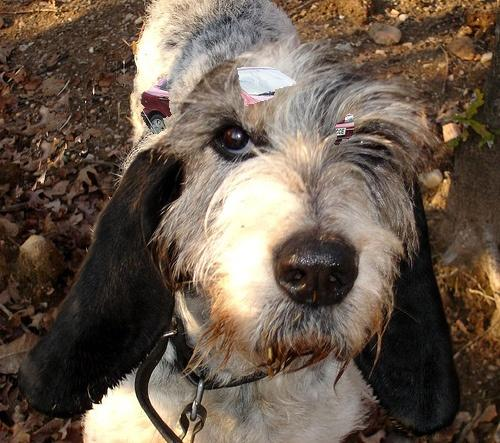tampered: (141, 68, 354, 145)
